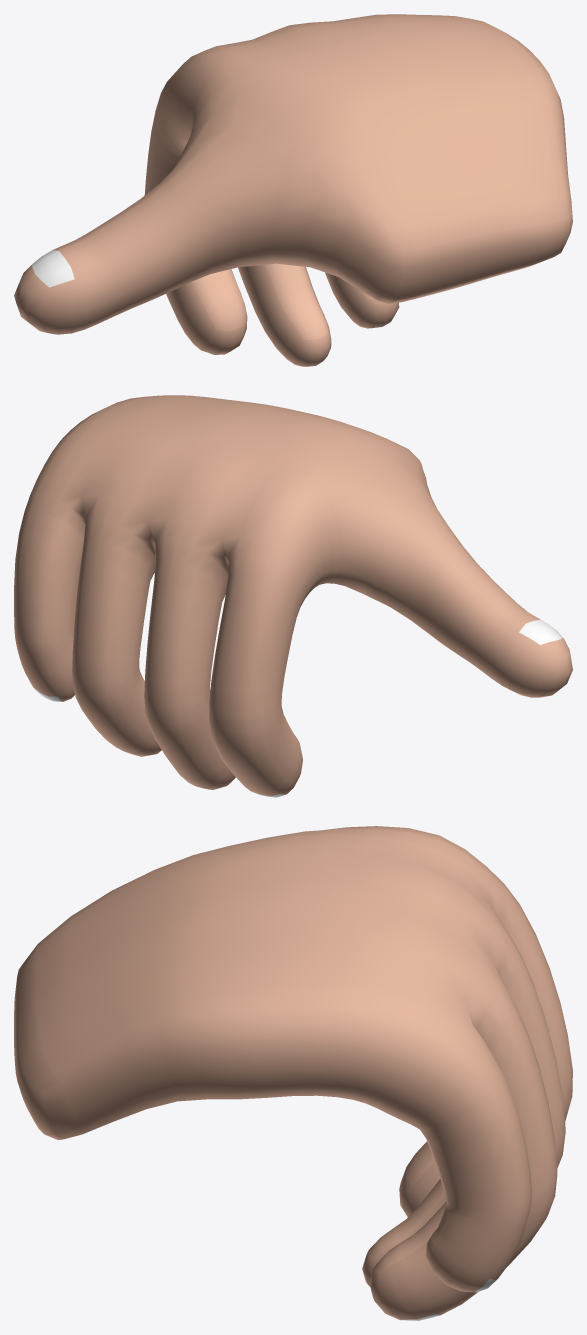
Rendered from lowPolyCurlHand.glb.
3 views of the same model, one above another, from view 1: azimuth 30°, elevation 25°; view 2: azimuth 150°, elevation 25°; view 3: azimuth 270°, elevation 25° (orthographic). The views are drawn at different scales.
Visible parts, largest first — view 1: curlHand; view 2: curlHand; view 3: curlHand.
Part boxes in pixels (bbox=[...]): curlHand: bbox=[14, 14, 572, 366]; curlHand: bbox=[14, 395, 572, 797]; curlHand: bbox=[14, 826, 572, 1320].
Size of the model in its own units: 0.1543 by 0.098 by 0.115.
Materials: 3 (1 with a texture image).
